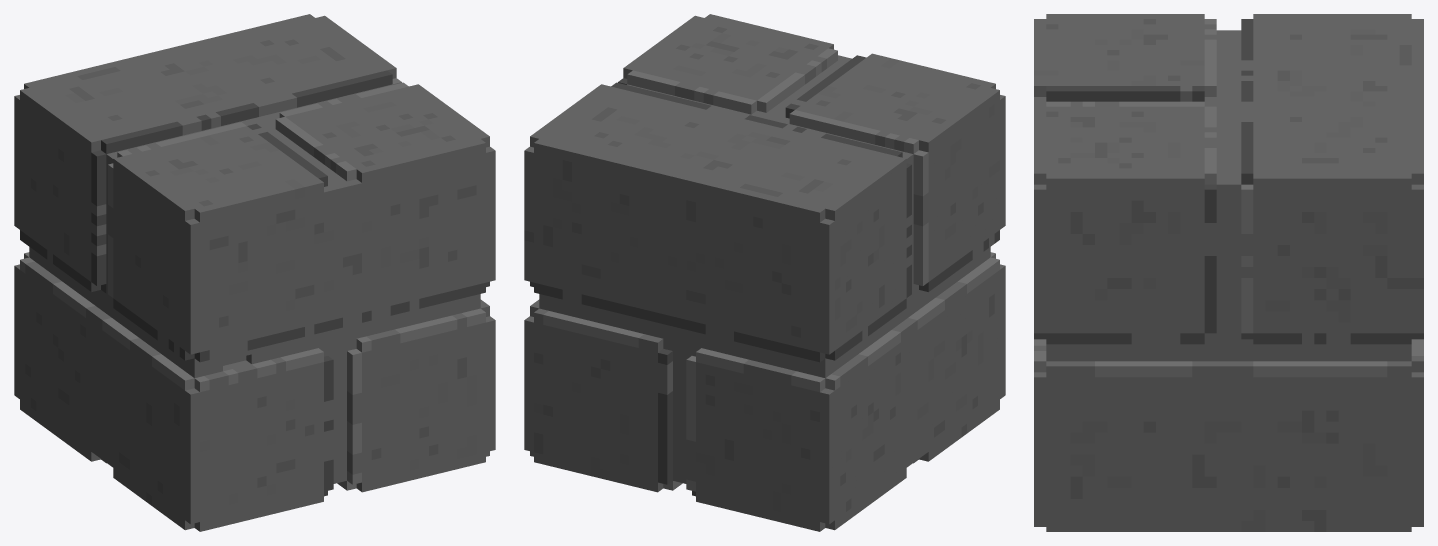
The model's file is stone.obj.
3 views of the same model, side by side, from view 1: azimuth 30°, elevation 25°; view 2: azimuth 150°, elevation 25°; view 3: azimuth 270°, elevation 25° (orthographic). The views are drawn at different scales.
Size of the model in its own units: 3.2 by 3.2 by 3.2.
